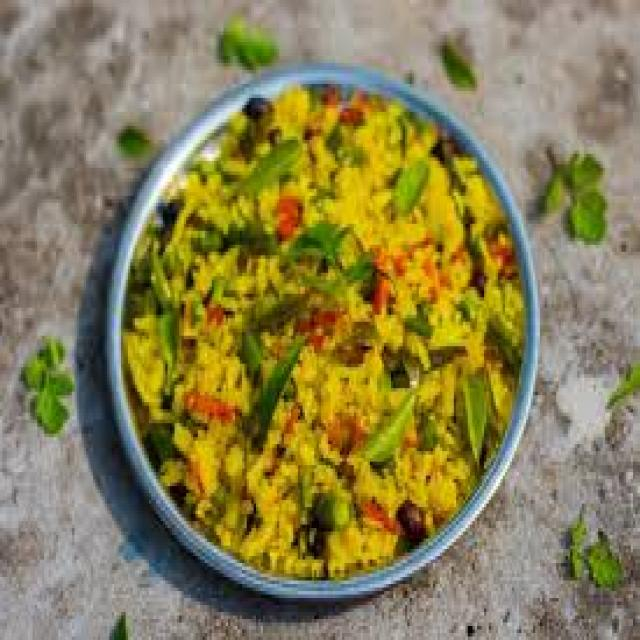POHA: (116, 91, 521, 567)
